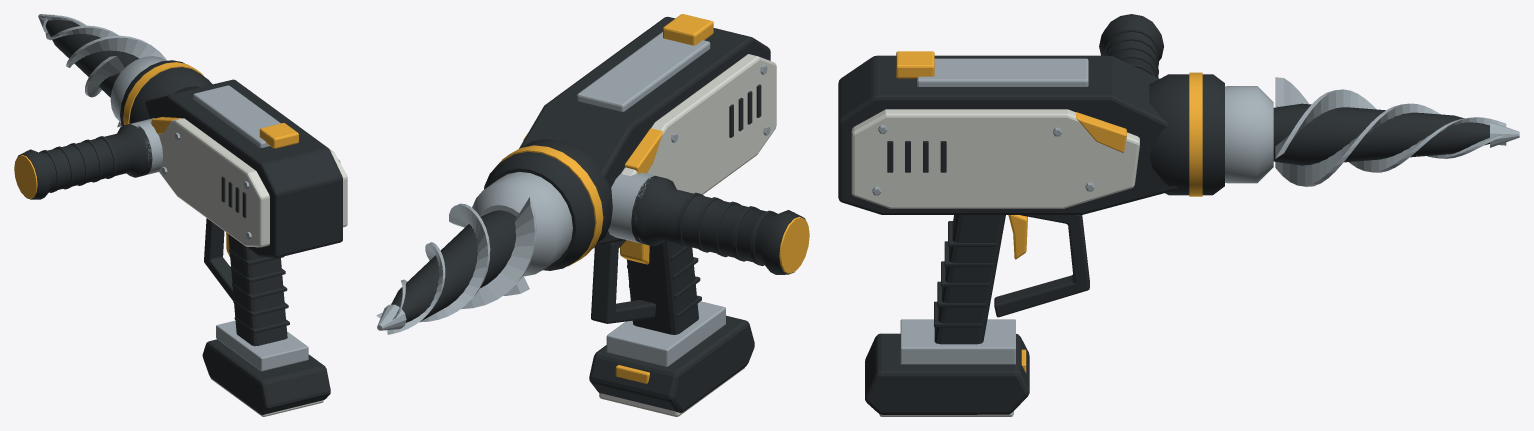
The model's file is VF_MiningDrill.glb.
3 views of the same model, side by side, from view 1: azimuth 30°, elevation 25°; view 2: azimuth 150°, elevation 25°; view 3: azimuth 270°, elevation 25° (orthographic). The views are drawn at different scales.
Parts seen in each view (by area): view 1: VF_MiningDrill_Body, VF_MiningDrill_Rotor; view 2: VF_MiningDrill_Body, VF_MiningDrill_Rotor, VF_MiningDrill_Trigger.001; view 3: VF_MiningDrill_Body, VF_MiningDrill_Rotor, VF_MiningDrill_Trigger.001.
Part boxes in pixels (x1,y1,x2,y2): VF_MiningDrill_Body: (14, 60, 347, 416); VF_MiningDrill_Rotor: (38, 14, 166, 127); VF_MiningDrill_Body: (484, 14, 809, 416); VF_MiningDrill_Rotor: (376, 172, 572, 334); VF_MiningDrill_Trigger.001: (620, 240, 649, 264); VF_MiningDrill_Body: (838, 14, 1224, 416); VF_MiningDrill_Rotor: (1225, 77, 1519, 186); VF_MiningDrill_Trigger.001: (1008, 215, 1027, 259).
Size of the model in its own units: 0.2125 by 0.254 by 0.46.
